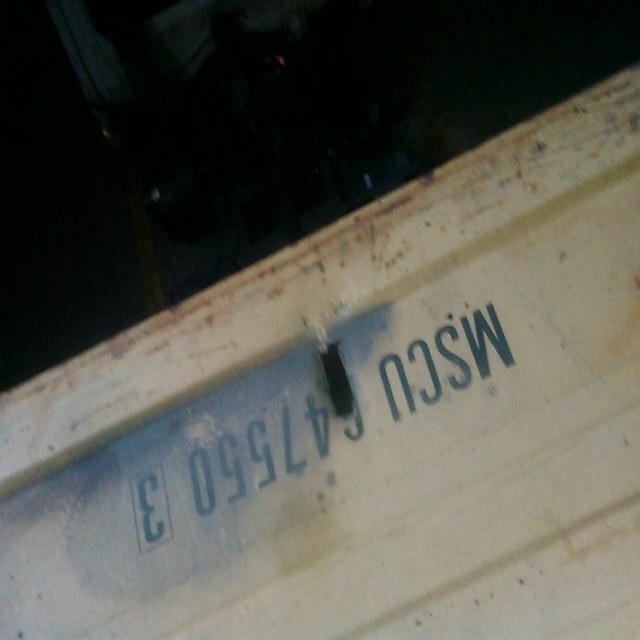hole: (318, 335, 360, 423)
